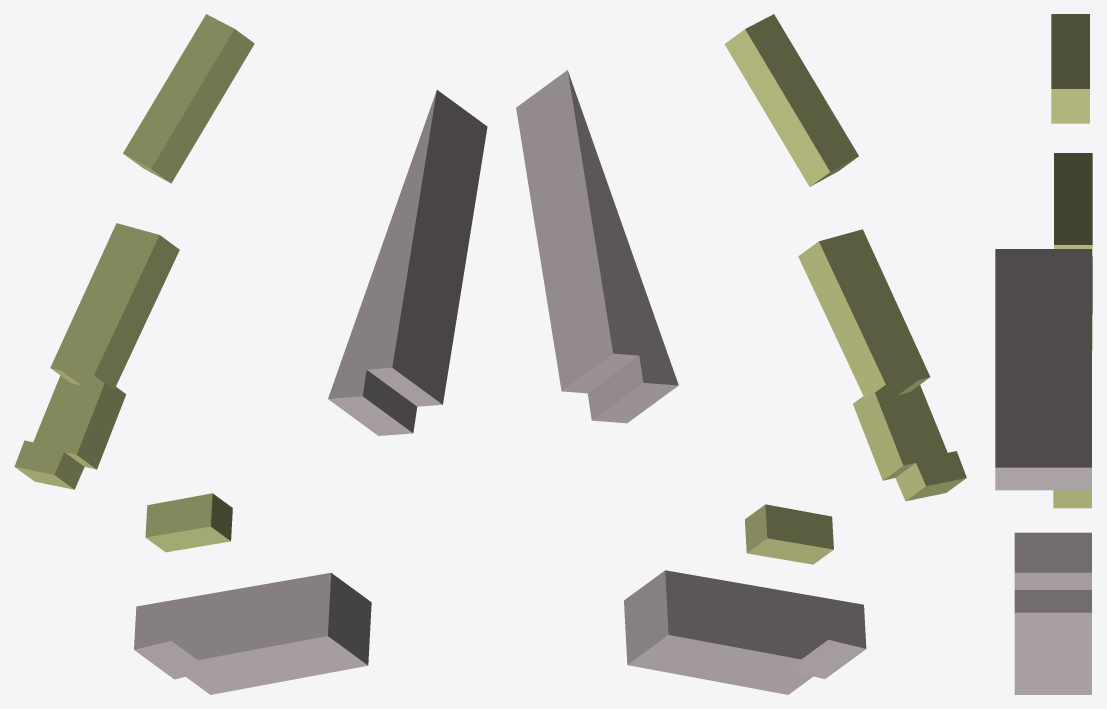
The picture shows the model from 3 angles, left to right: view 1: azimuth 30°, elevation 25°; view 2: azimuth 150°, elevation 25°; view 3: azimuth 270°, elevation 25°; orthographic projection. The views are drawn at different scales.
Visible parts, largest first — view 1: 0_3_2_0_2_1_0_3; view 2: 0_3_2_0_2_1_0_3; view 3: 0_3_2_0_2_1_0_3.
Part boxes in pixels (bbox=[...]): 0_3_2_0_2_1_0_3: bbox=[14, 14, 487, 694]; 0_3_2_0_2_1_0_3: bbox=[516, 14, 966, 694]; 0_3_2_0_2_1_0_3: bbox=[995, 14, 1092, 694].
Size of the model in its own units: 72.24 by 107 by 15.1.
